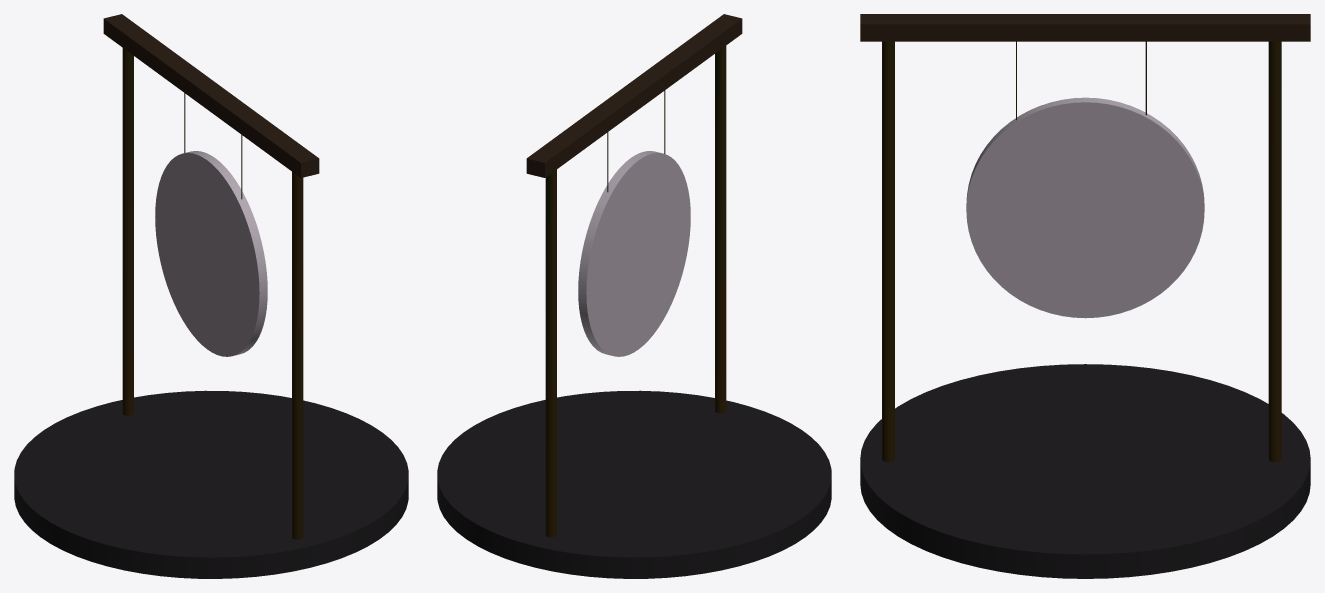
3 renders of one model, left to right at view 1: azimuth 30°, elevation 25°; view 2: azimuth 150°, elevation 25°; view 3: azimuth 270°, elevation 25°, orthographic. The views are drawn at different scales.
Visible parts, largest first — view 1: platform, disk, beam, post.001, post; view 2: platform, disk, beam, post, post.001; view 3: platform, disk, beam, post.001, post.
Part boxes in pixels (x1=…): platform: x1=14, y1=390, x2=408, y2=578; disk: x1=155, y1=151, x2=267, y2=356; beam: x1=103, y1=14, x2=319, y2=177; post.001: x1=122, y1=48, x2=133, y2=415; post: x1=292, y1=172, x2=303, y2=539; platform: x1=437, y1=390, x2=831, y2=578; disk: x1=578, y1=151, x2=690, y2=356; beam: x1=526, y1=14, x2=742, y2=177; post: x1=715, y1=46, x2=726, y2=413; post.001: x1=545, y1=169, x2=556, y2=537; platform: x1=860, y1=364, x2=1310, y2=578; disk: x1=966, y1=97, x2=1204, y2=318; beam: x1=860, y1=14, x2=1310, y2=41; post.001: x1=1268, y1=41, x2=1281, y2=461; post: x1=882, y1=41, x2=894, y2=461.
Size of the model in its own units: 1.32 by 1.5 by 1.32.
